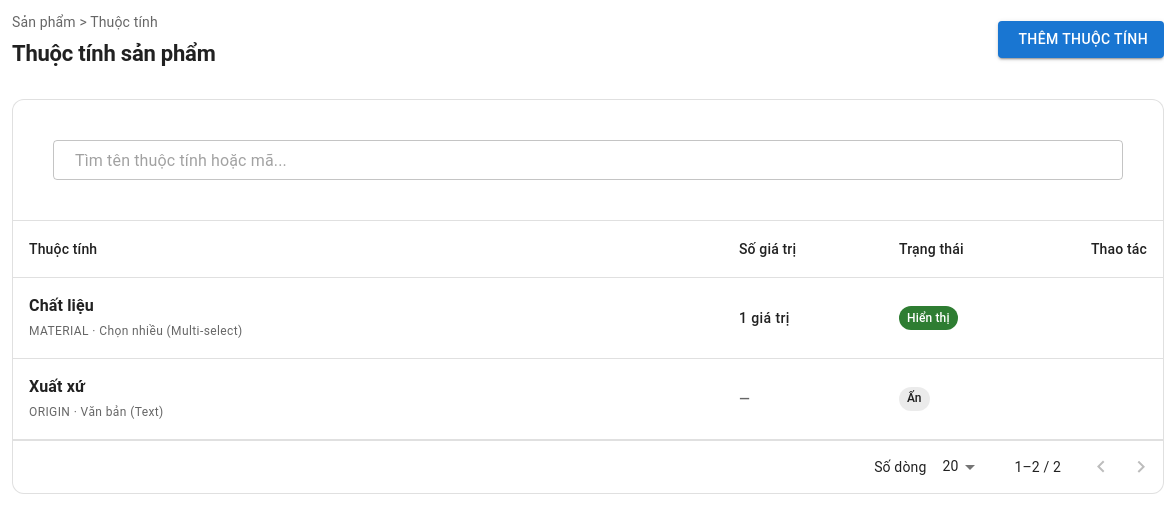
Test: shows 4 columns (Thuộc tính, Số giá trị, Trạng thái, Thao tác) and navigates to dedicated values page
The width and height of the screenshot is (1176, 511).
Expected: the row that starts with "Chất liệu" is shown, 29,296 -> 94,315
Expected: the row that starts with "Chất liệu" shows "MATERIAL", 29,324 -> 89,338
Click the button with aria-label "Xem chi tiết Chất liệu": x=764, y=318 739,306 -> 790,330
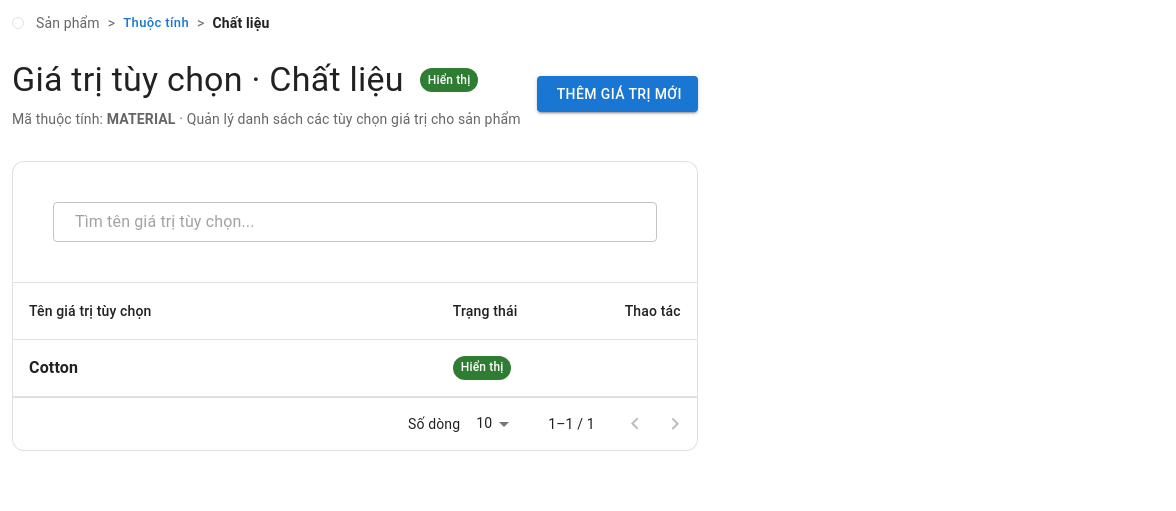
Result: the text "Giá trị tùy chọn · Chất liệu" is shown at 12,59 -> 404,101
Result: the text "Cotton" is shown at 29,358 -> 78,377
# Bấm nút quay lại trên header quay về Trang 1 danh sách thuộc tính
Click the button named "Quay lại danh sách thuộc tính": x=18, y=23 12,17 -> 24,29
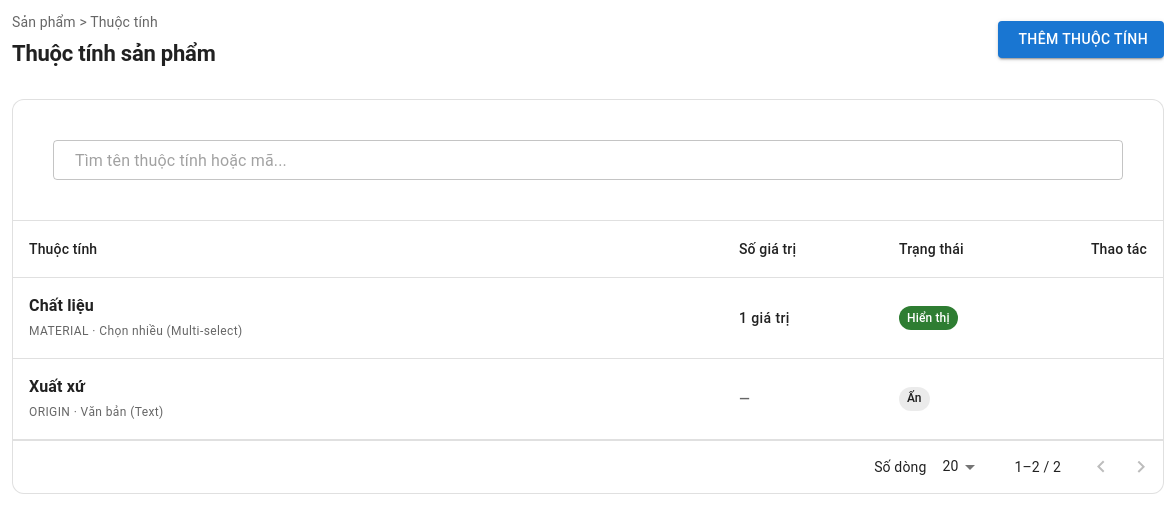
Result: the text "Thuộc tính sản phẩm" is shown at 12,40 -> 216,67
